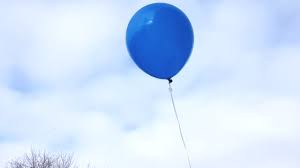Balloon: (126, 4, 194, 79)
